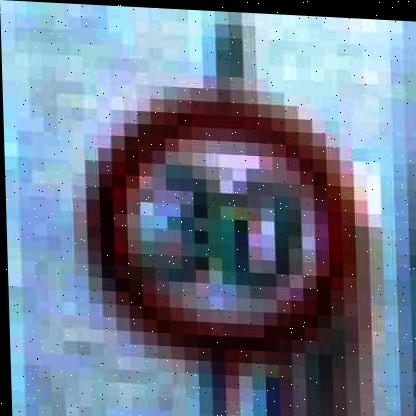Speed Limit -30-: (76, 86, 360, 372)
